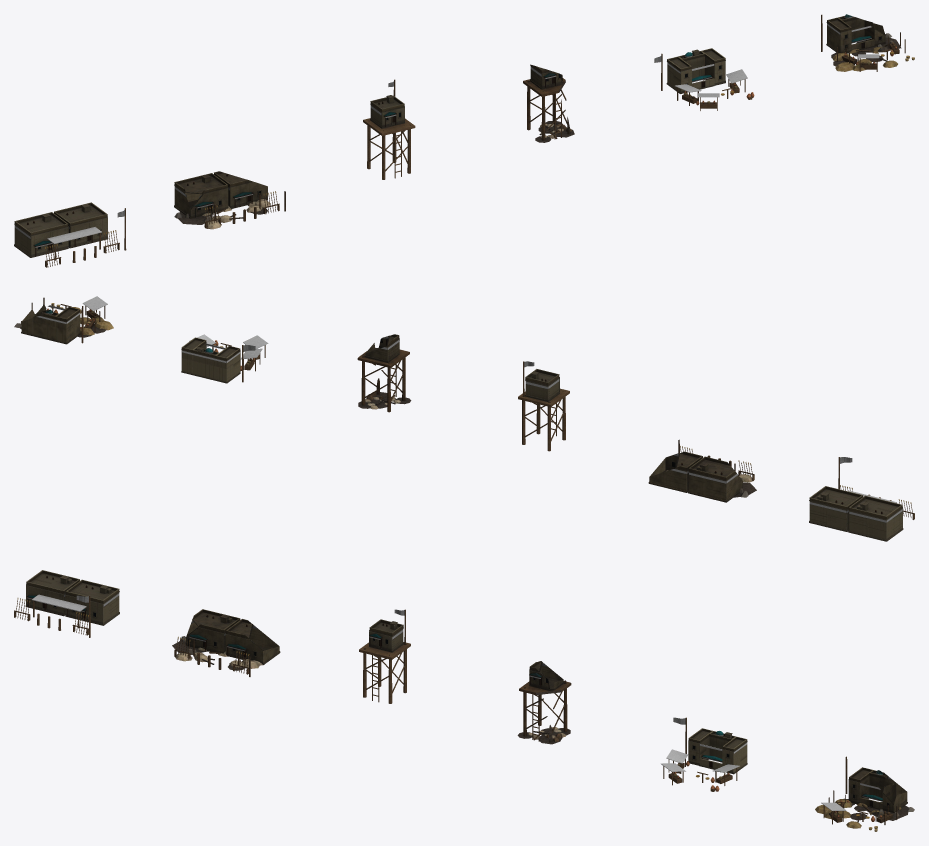
The model's file is rts-kingdoms-steppe.glb.
3 renders of one model, top to bottom at view 1: azimuth 30°, elevation 25°; view 2: azimuth 150°, elevation 25°; view 3: azimuth 330°, elevation 25°, orthographic.
Visible parts, largest first — view 1: LOD0, LOD0.001, LOD0.005, LOD0.004, LOD0.002, LOD0.003; view 2: LOD0, LOD0.001, LOD0.004, LOD0.005, LOD0.003, LOD0.002; view 3: LOD0.001, LOD0, LOD0.005, LOD0.004, LOD0.002, LOD0.003.
Boxes of the visible parts, x1,y1,x2,y2 form: LOD0: (14,202,126,267); LOD0.001: (174,171,285,229); LOD0.005: (821,14,914,71); LOD0.004: (654,48,754,110); LOD0.002: (363,79,415,179); LOD0.003: (523,64,574,142); LOD0: (809,457,914,541); LOD0.001: (648,439,756,502); LOD0.004: (181,334,268,383); LOD0.005: (14,296,113,344); LOD0.003: (357,334,411,412); LOD0.002: (518,361,569,451); LOD0.001: (172,609,280,676); LOD0: (14,570,119,637); LOD0.005: (815,756,914,831); LOD0.004: (661,717,747,791); LOD0.002: (359,609,410,703); LOD0.003: (517,661,571,744).
Size of what is drawn, in the model's own units: 16.4 by 1.48 by 1.36.
2 materials, 2 textured.
